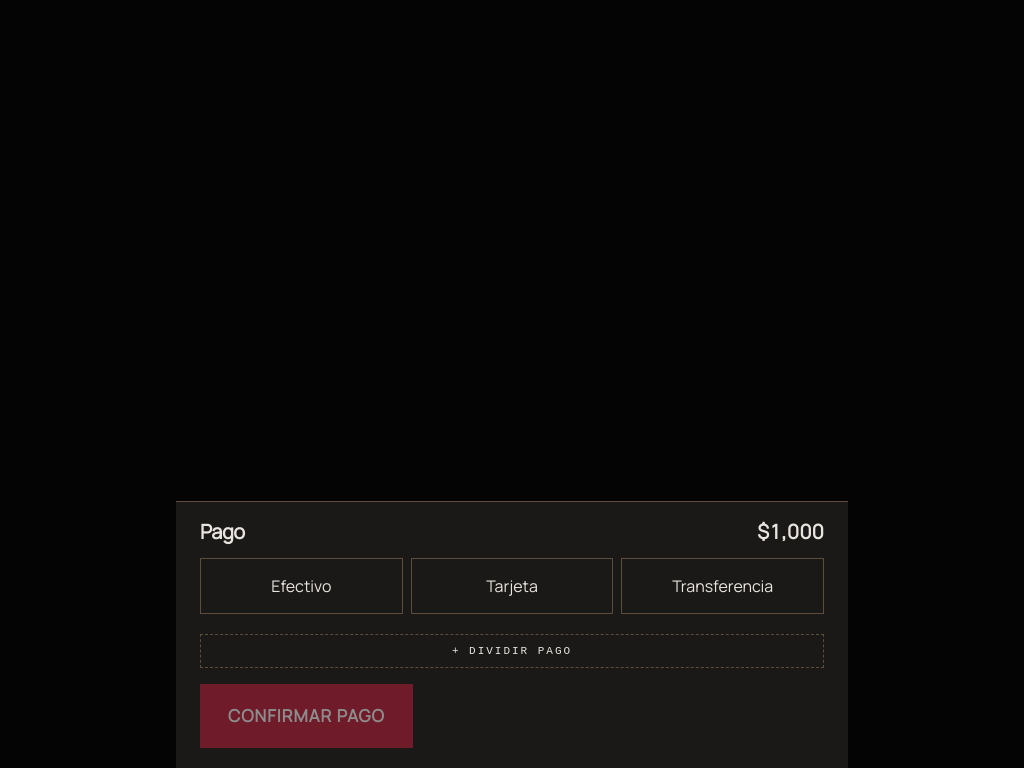
Scenario: PaymentSheet › selecting CASH shows the CashCounter denomination rows
The image size is (1024, 768).
Click the button "Efectivo" at point(301, 586), box [200,558,403,614]
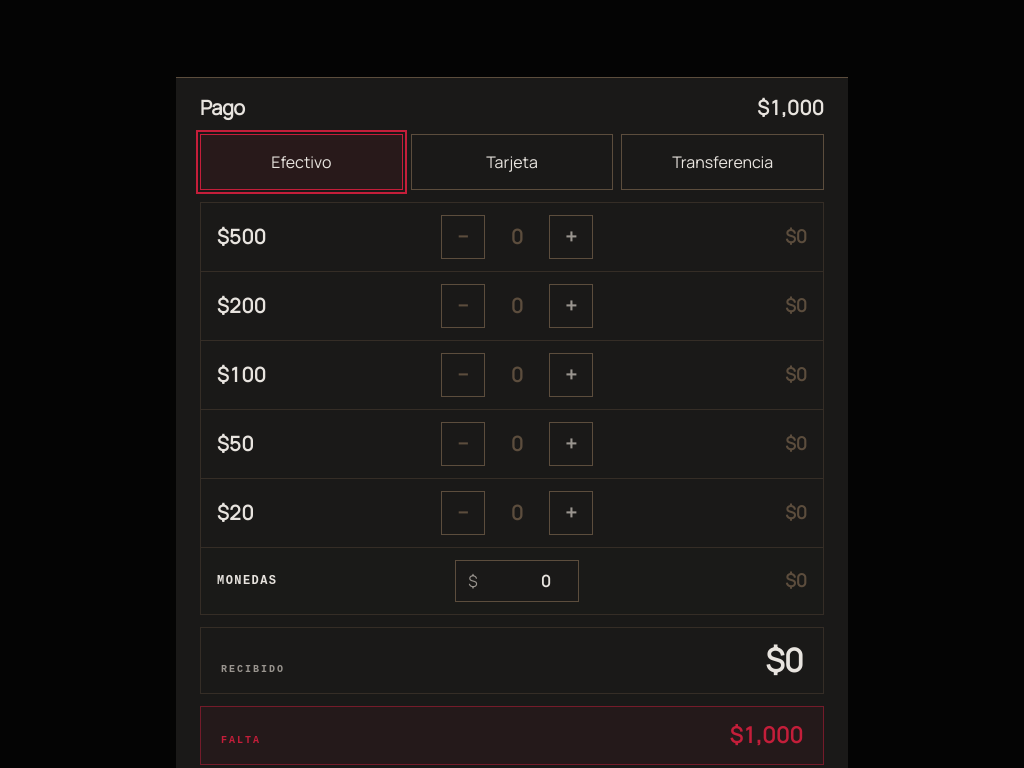
Check: the text "MONEDAS" is shown, box [217,574,278,588]
Check: the text "Recibido" is shown, box [221,662,285,677]
